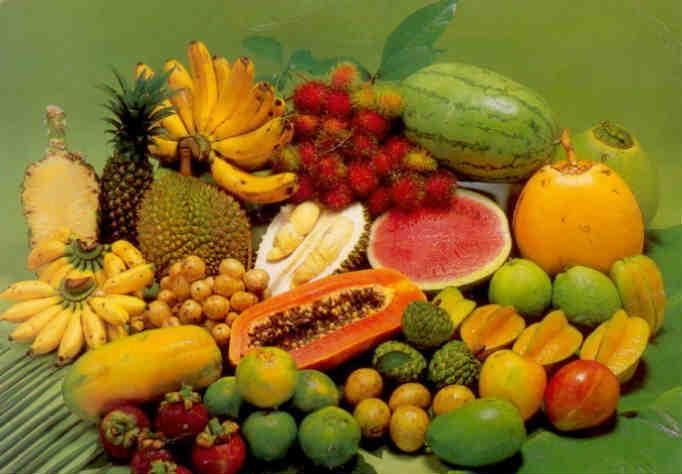chom_chom: (310, 93, 391, 198)
chuoi: (184, 41, 303, 209), (2, 260, 161, 367)
dua_hau: (402, 62, 557, 179)
